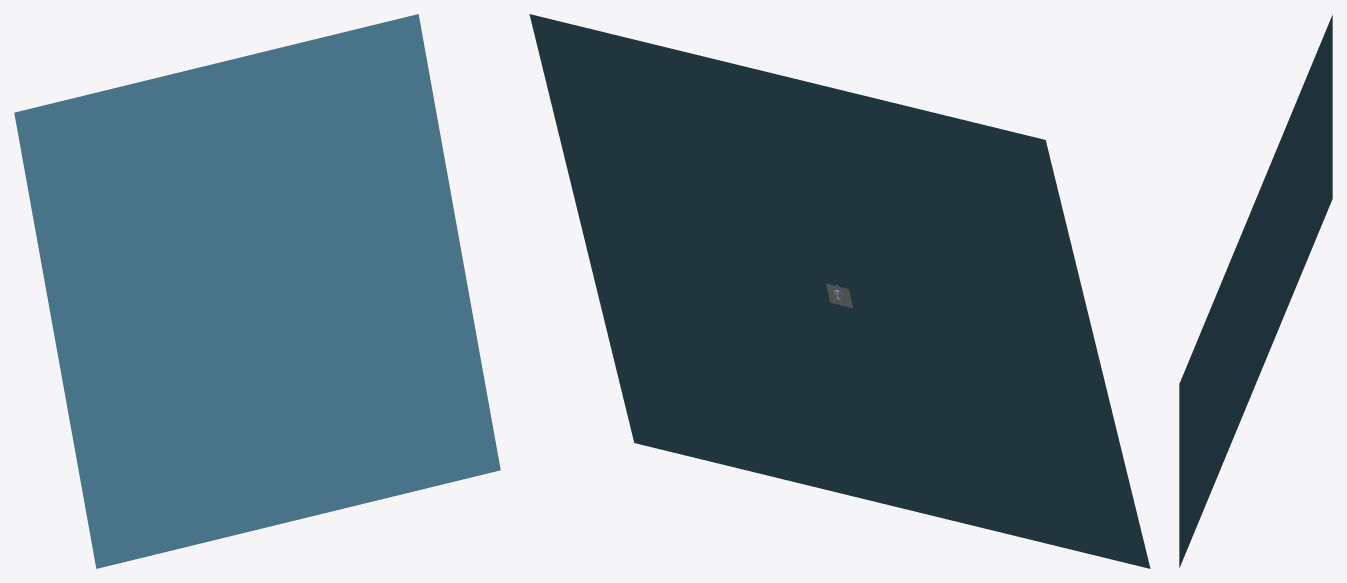
Rendered from scubaMask_v3_withBubbles.fbx.
3 views of the same model, side by side, from view 1: azimuth 30°, elevation 25°; view 2: azimuth 150°, elevation 25°; view 3: azimuth 270°, elevation 25° (orthographic). The views are drawn at different scales.
Parts seen in each view (by area): view 1: water; view 2: water; view 3: water.
Part boxes in pixels (box(x1,y1,x2,y2)): water: box(14, 14, 500, 568); water: box(529, 14, 1150, 568); water: box(1179, 15, 1332, 567).
Bounding box in the file's own units: 8 × 7.49 × 2.81.
